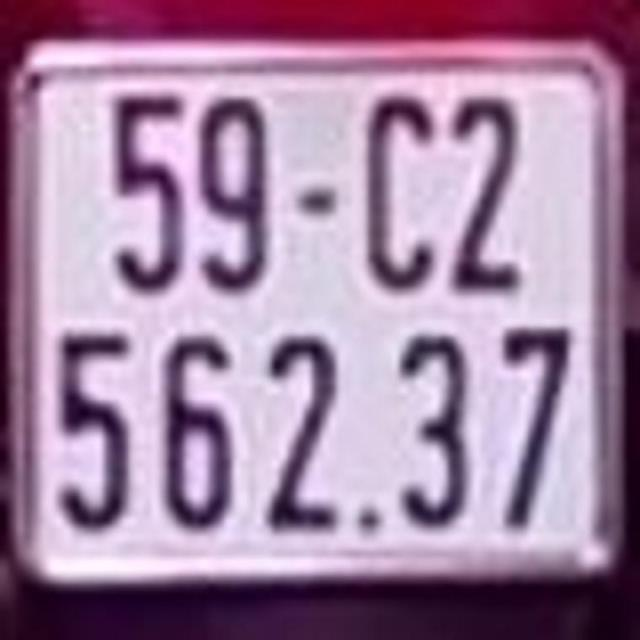2: (448, 79, 526, 298), (265, 312, 338, 541)
3: (394, 319, 471, 532)
5: (56, 314, 132, 533), (108, 83, 184, 296)
6: (164, 321, 234, 537)
7: (497, 308, 572, 532)
9: (196, 80, 269, 299)
C: (367, 84, 436, 295)
